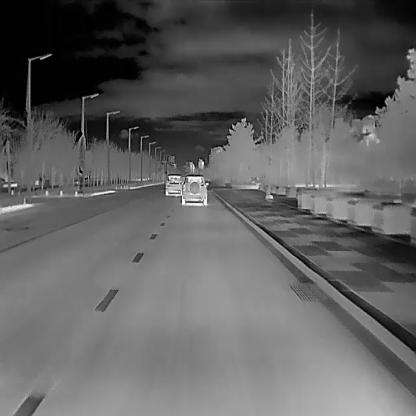car: (181, 173, 209, 206), (164, 173, 182, 196)
